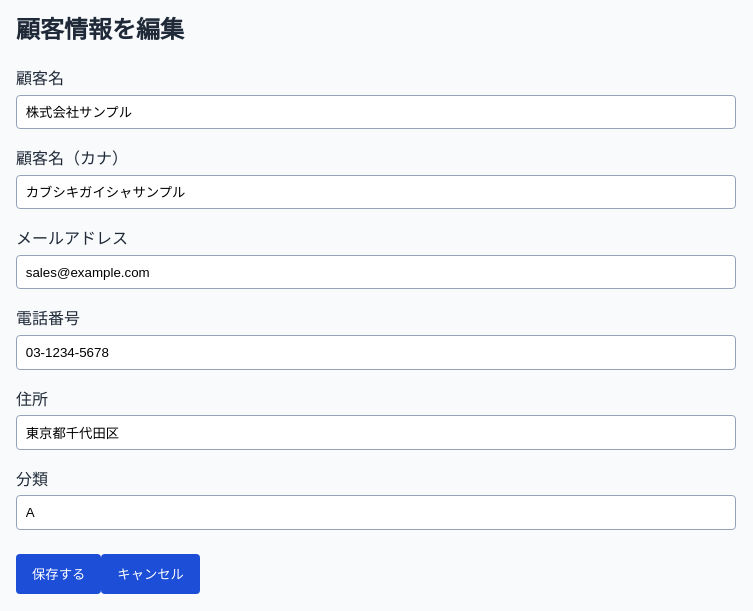
Test case: CustomerEditScreen › shows save loading while PATCH is pending
Step 1. Replace the text in the field labelled "顧客名" with "更新後" → (376, 112), box 16,94 -> 736,129
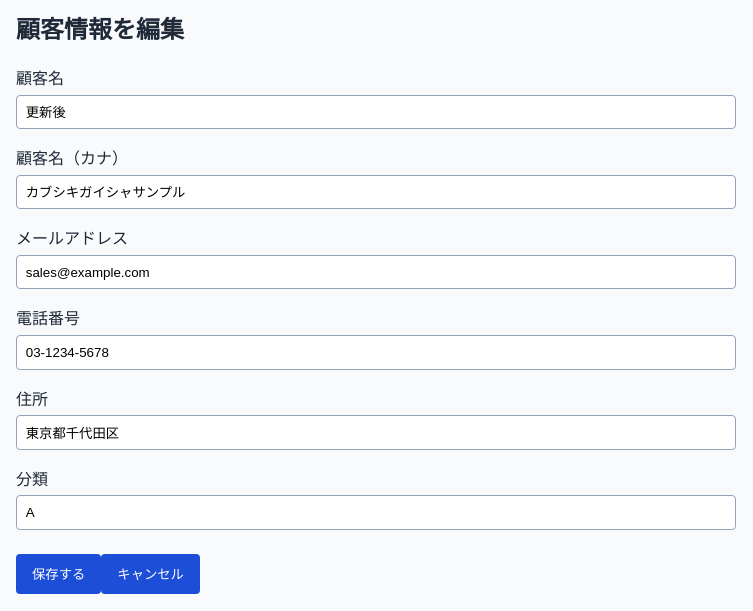
Step 2. Click the button "保存する" → (59, 574), box 16,554 -> 101,594
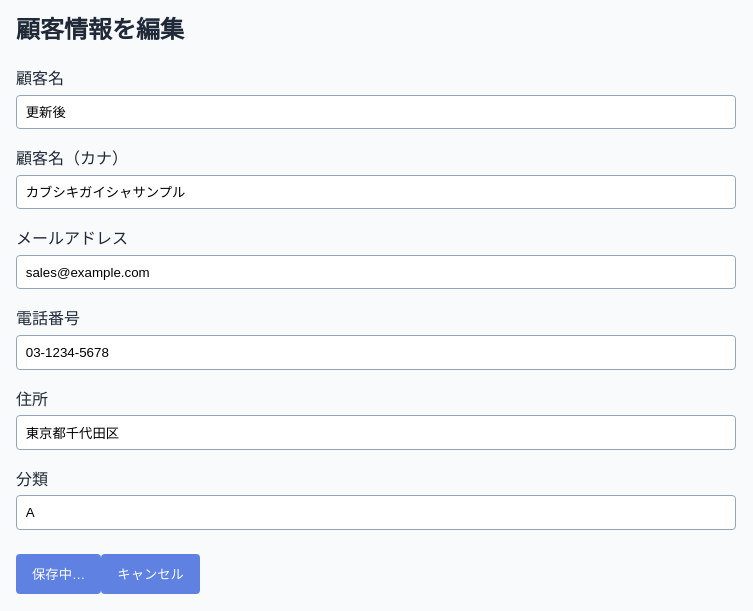
Now the button "保存中…" is disabled, box 16,554 -> 101,594
Now the button "キャンセル" is disabled, box 101,554 -> 200,594
